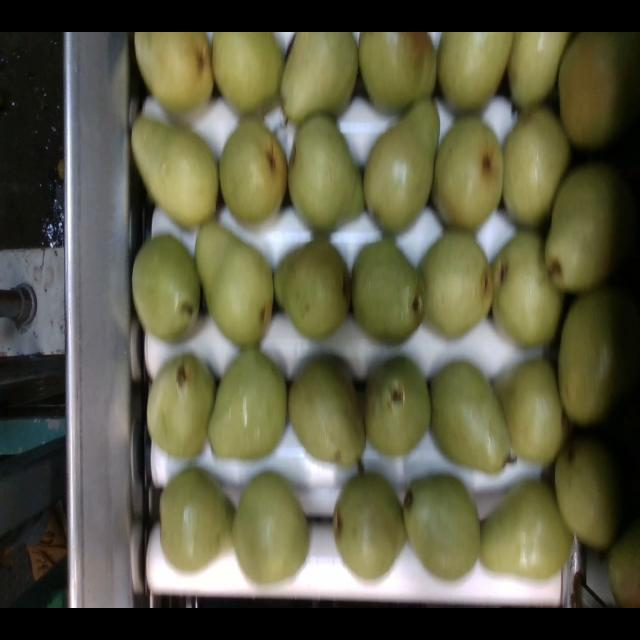pears: (553, 284, 640, 436), (544, 164, 639, 296), (552, 427, 640, 554), (193, 223, 278, 353), (286, 354, 368, 488), (130, 113, 222, 230), (556, 32, 640, 159), (363, 106, 441, 239), (490, 228, 570, 352), (207, 348, 290, 464), (288, 115, 366, 238), (479, 483, 574, 582), (430, 116, 505, 237), (504, 106, 573, 235), (215, 116, 292, 229), (431, 363, 511, 469), (131, 235, 207, 346), (492, 357, 568, 467), (279, 32, 362, 130), (274, 240, 352, 343), (424, 232, 496, 343), (147, 354, 219, 463), (160, 471, 235, 572), (405, 477, 480, 577), (237, 478, 309, 582), (130, 32, 218, 116), (352, 241, 423, 345), (434, 31, 518, 118), (335, 478, 408, 576), (356, 32, 441, 113), (212, 33, 286, 118), (367, 362, 429, 454), (504, 32, 571, 112)
